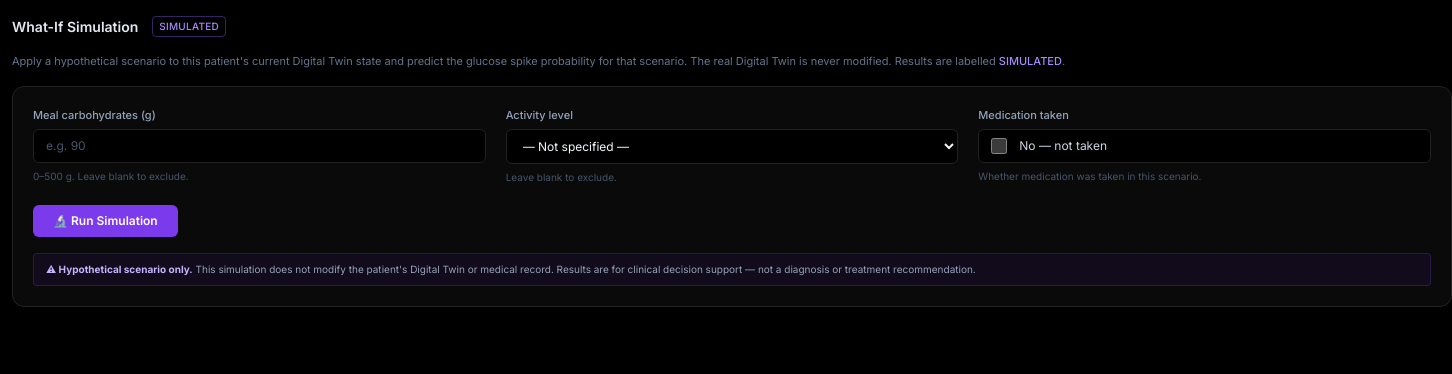
Test: WhatIfSimulationPanel › shows carbs validation error for negative value
In the number field labelled "Meal carbohydrates (g)": [259, 146] box [33,129,486,163], type "-5"
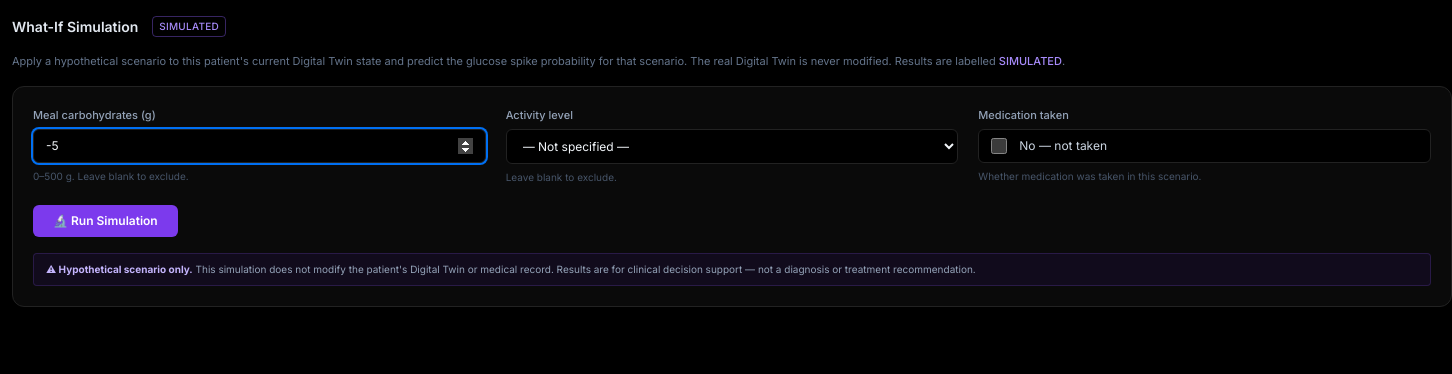
Click the button with test id "run-simulation-button": [105, 221] box [33,205,178,237]
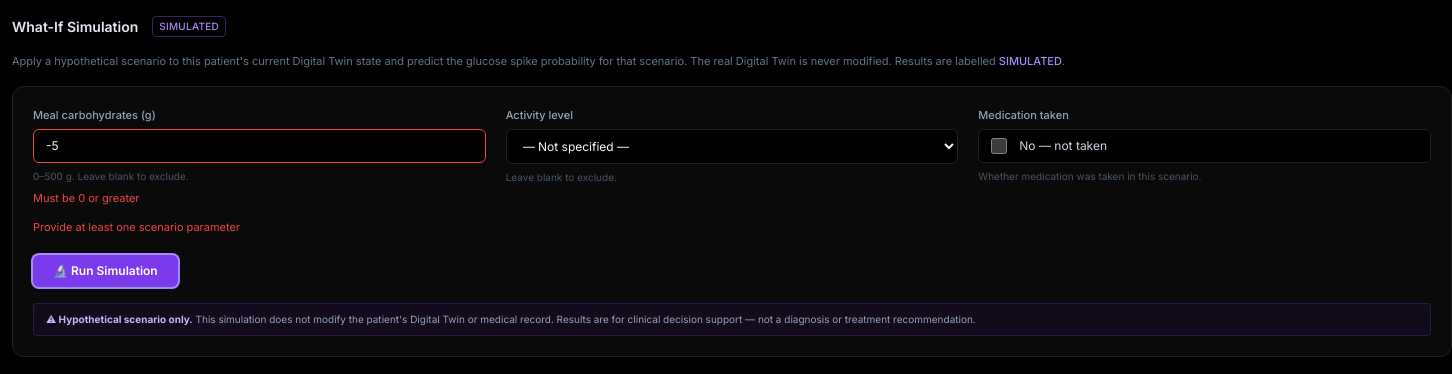
Check: the message with test id "carbs-error" reads "Must be 0 or greater", box [33,191,140,205]
